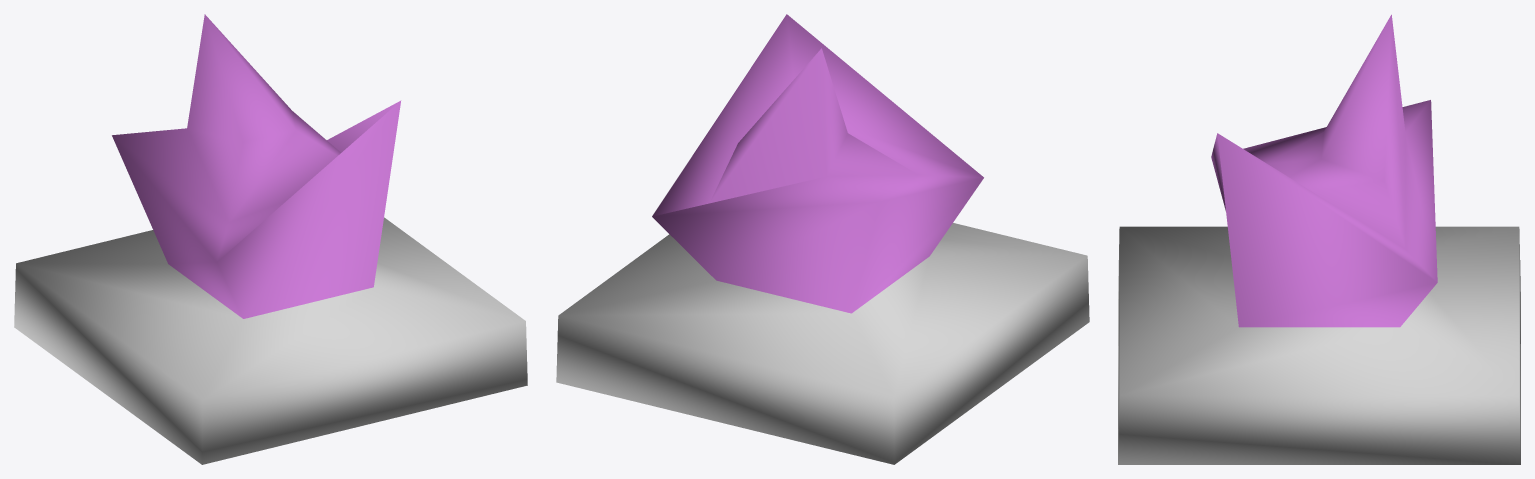
File: proximityMine.fbx
The picture shows the model from 3 angles, left to right: view 1: azimuth 30°, elevation 25°; view 2: azimuth 150°, elevation 25°; view 3: azimuth 270°, elevation 25°; orthographic projection. The views are drawn at different scales.
Visible parts, largest first — view 1: ProximityMine; view 2: ProximityMine; view 3: ProximityMine.
Boxes of the visible parts, x1,y1,x2,y2 form: ProximityMine: (14, 14, 527, 464); ProximityMine: (556, 14, 1089, 464); ProximityMine: (1118, 14, 1520, 464).
Bounding box in the file's own units: 0.2858 × 0.2731 × 0.2858.
